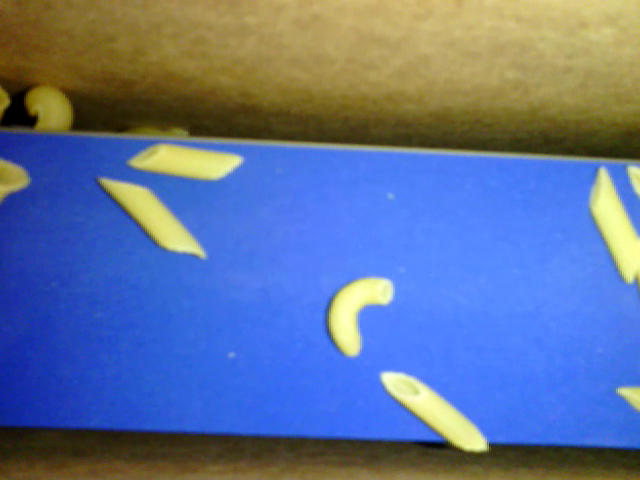elbow: (324, 275, 400, 358)
penne: (376, 368, 492, 452), (98, 175, 208, 261), (583, 164, 639, 292), (125, 146, 249, 179), (612, 380, 639, 408)
shell: (25, 85, 74, 133)
